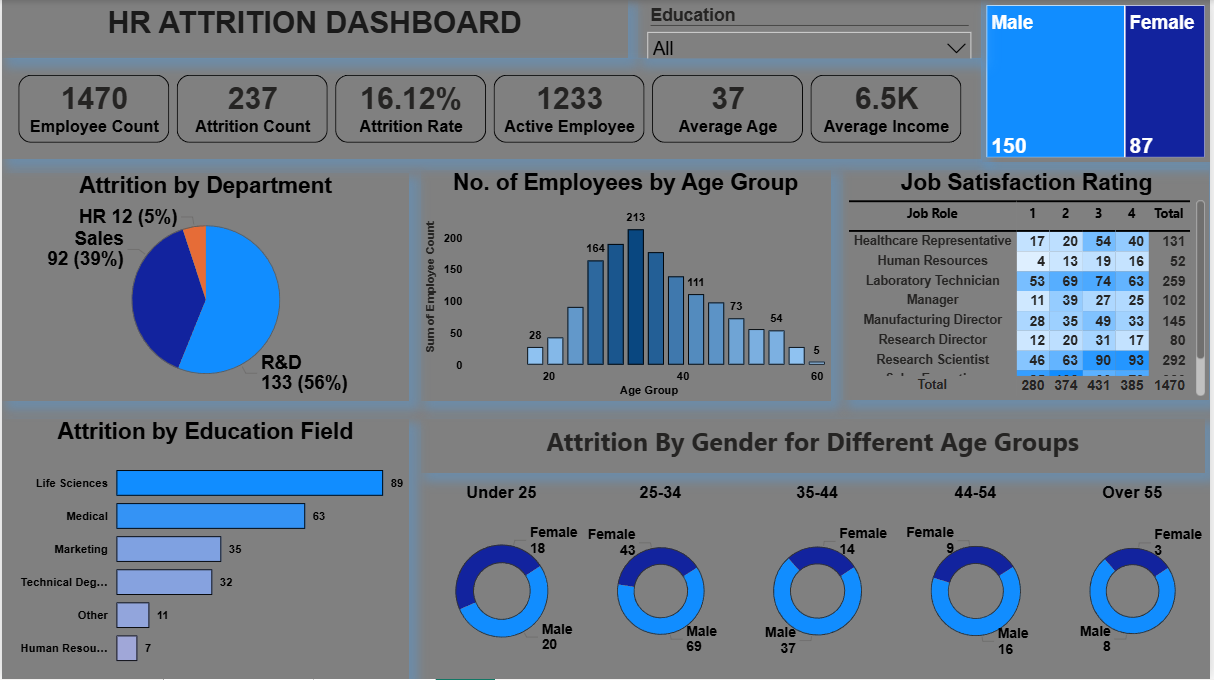

The dashboard page shown, as its layout file describes it:
{"tool":"powerbi","page":{"name":"Dashboard","canvas":[1280,720],"ordinal":0},"visuals":[{"type":"cardVisual","fields":{"Data":["Sum(HrData.Employee Count)","Sum(HrData.Attrition Count)","HrData.Attrition  Rate","HrData.Active Employee","Avg(HrData.Age)","Avg(HrData.Monthly Income)"]},"box":[0,62,1038.7,106.6],"z":0},{"type":"treemap","fields":{"Group":["HrData.Gender"],"Values":["Sum(HrData.Attrition Count)"]},"box":[1038.7,0,241.8,171.8],"z":1000},{"type":"pieChart","title":"Attrition by Department","fields":{"Category":["HrData.Department"],"Y":["Sum(HrData.Attrition Count)"]},"box":[0,183.3,431.7,241.7],"z":2000},{"type":"textbox","box":[0,0,663.3,62],"z":3000},{"type":"slicer","fields":{"Values":["HrData.Education"]},"box":[675,0,363.3,61.7],"z":4000},{"type":"columnChart","title":"No. of  Employees by Age Group","fields":{"Category":["HrData.Age Group"],"Y":["Sum(HrData.Employee Count)"]},"box":[443.3,180,435,245],"z":5000},{"type":"pivotTable","title":"Job Satisfaction Rating","fields":{"Rows":["HrData.Job Role"],"Columns":["HrData.Job Satisfaction"],"Values":["Sum(HrData.Employee Count)"]},"box":[892.3,179.7,388.1,245],"z":6000},{"type":"barChart","title":" Attrition by Education Field","fields":{"Category":["HrData.Education Field"],"Y":["Sum(HrData.Attrition Count)"]},"box":[0,443.8,431.1,276.8],"z":7000},{"type":"donutChart","title":"Under 25","fields":{"Y":["Sum(HrData.Attrition Count)"],"Category":["HrData.Gender"]},"box":[443.8,512.2,171.8,208.4],"z":8000},{"type":"donutChart","title":"25-34","fields":{"Y":["Sum(HrData.Attrition Count)"],"Category":["HrData.Gender"]},"box":[615.6,512.2,165.4,208.4],"z":9000},{"type":"donutChart","title":"35-44","fields":{"Y":["Sum(HrData.Attrition Count)"],"Category":["HrData.Gender"]},"box":[781,512.2,167,208.4],"z":10000},{"type":"donutChart","title":"44-54","fields":{"Y":["Sum(HrData.Attrition Count)"],"Category":["HrData.Gender"]},"box":[948,512.2,168.6,208.4],"z":11000},{"type":"donutChart","title":"Over 55","fields":{"Y":["Sum(HrData.Attrition Count)"],"Category":["HrData.Gender"]},"box":[1116.6,512.2,163.8,208.4],"z":12000},{"type":"textbox","box":[443.8,443.8,831.9,57.3],"z":13000}]}

Visuals, with their boxes in screenshot pixels (x1, y1, x2, y2), scaled from the page's 1280x720 canvas onto the 1214x680 screenshot:
cardVisual - Sum(HrData.Employee Count) x Sum(HrData.Attrition Count): [left=0, top=59, right=985, bottom=159]
treemap - HrData.Gender x Sum(HrData.Attrition Count): [left=985, top=0, right=1213, bottom=162]
"Attrition by Department" pieChart: [left=0, top=173, right=409, bottom=401]
textbox: [left=0, top=0, right=629, bottom=59]
slicer - HrData.Education: [left=640, top=0, right=985, bottom=58]
"No. of  Employees by Age Group" columnChart: [left=420, top=170, right=833, bottom=401]
"Job Satisfaction Rating" pivotTable: [left=846, top=170, right=1213, bottom=401]
" Attrition by Education Field" barChart: [left=0, top=419, right=409, bottom=679]
"Under 25" donutChart: [left=421, top=484, right=584, bottom=679]
"25-34" donutChart: [left=584, top=484, right=741, bottom=679]
"35-44" donutChart: [left=741, top=484, right=899, bottom=679]
"44-54" donutChart: [left=899, top=484, right=1059, bottom=679]
"Over 55" donutChart: [left=1059, top=484, right=1213, bottom=679]
textbox: [left=421, top=419, right=1210, bottom=473]
